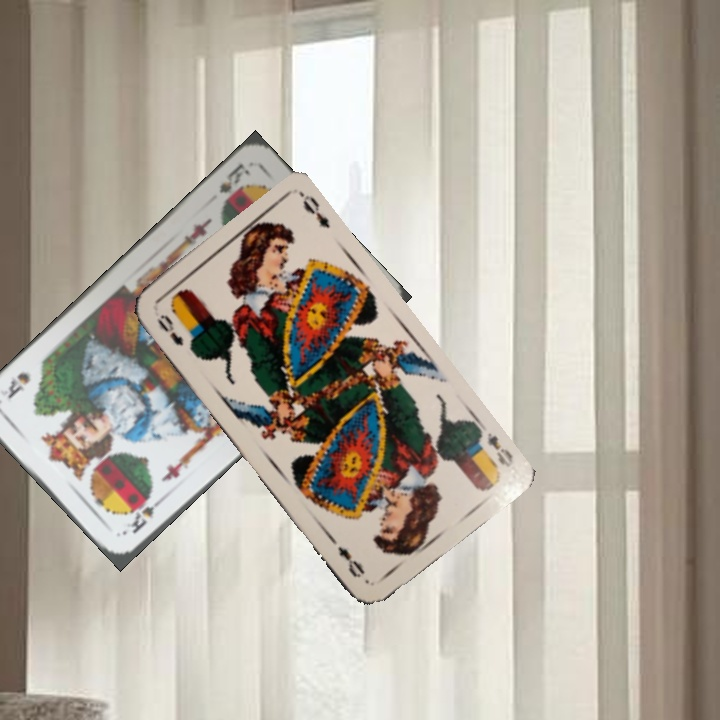EO: (483, 428, 516, 471), (153, 310, 186, 349)
SK: (122, 493, 168, 537), (214, 158, 254, 206)
